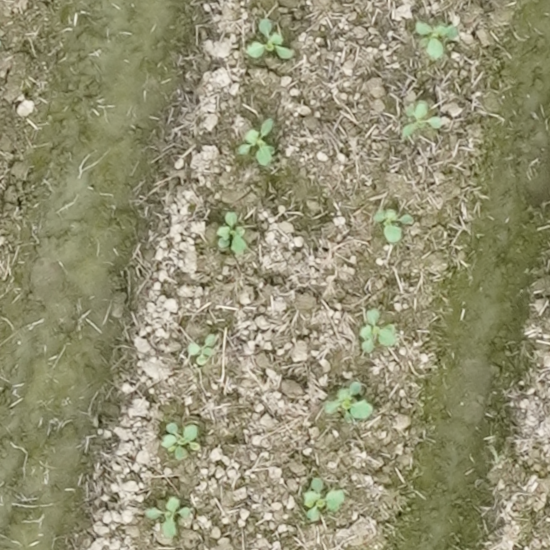Cabbage: (145, 495, 190, 537), (303, 478, 344, 521), (326, 383, 372, 421), (237, 119, 274, 166), (248, 20, 292, 59), (415, 21, 458, 60), (360, 309, 396, 353), (401, 100, 442, 138), (161, 423, 199, 460), (373, 208, 413, 243), (216, 213, 248, 253), (188, 334, 216, 364)
